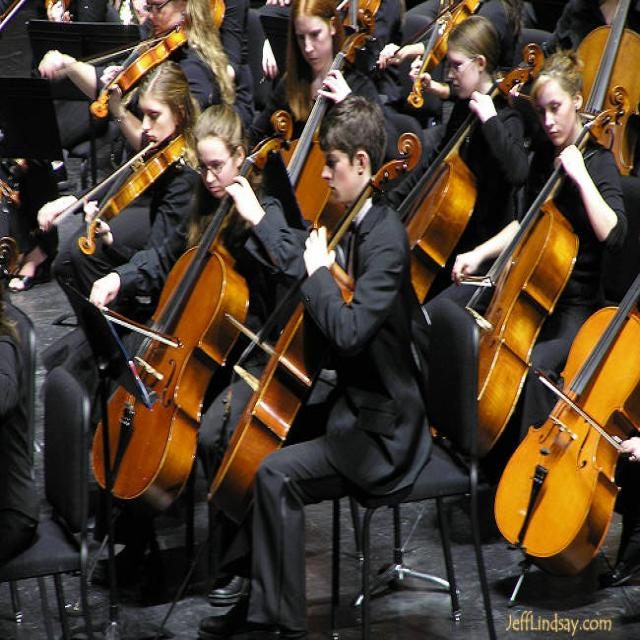cello: (89, 110, 294, 502), (209, 133, 422, 503), (463, 84, 630, 458), (495, 275, 640, 578), (400, 44, 544, 306), (280, 8, 376, 238), (564, 0, 640, 179)
violin: (78, 134, 187, 258), (91, 21, 188, 117), (406, 2, 478, 108), (342, 0, 382, 35)
